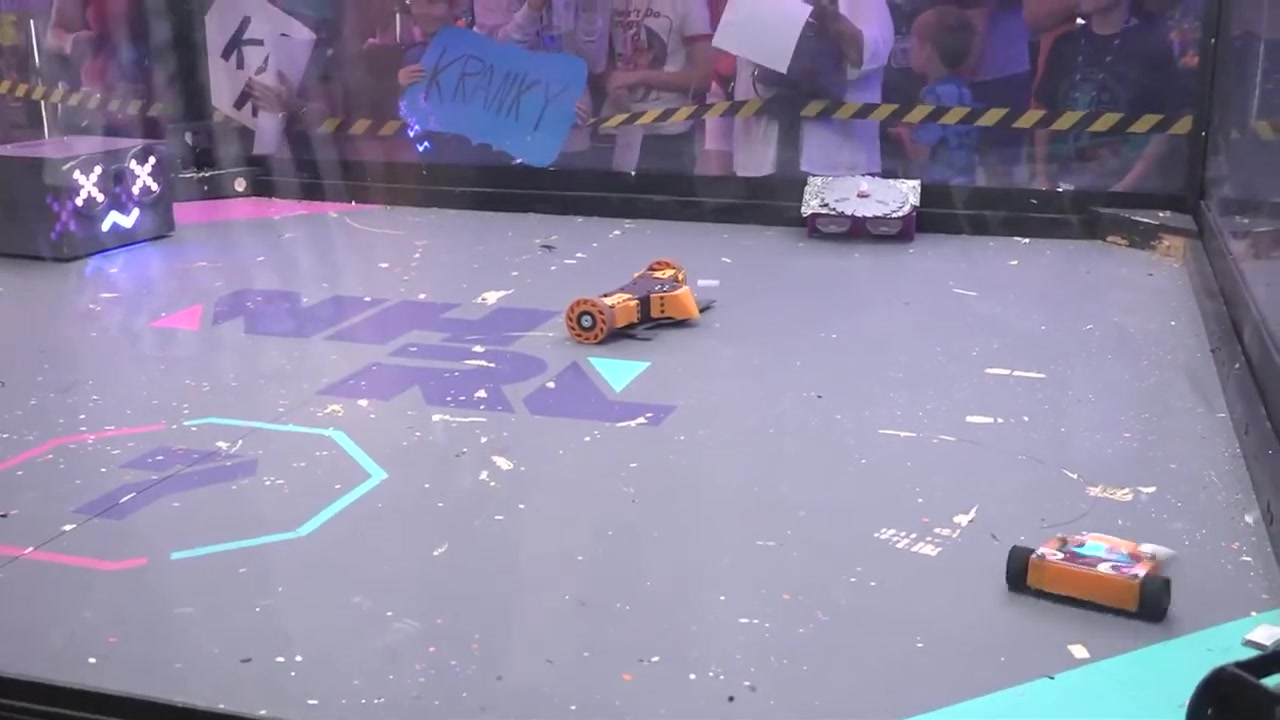combatbot: (564, 262, 718, 348)
housebot: (0, 137, 175, 262), (802, 174, 919, 244)
minibot: (1004, 532, 1179, 625)
